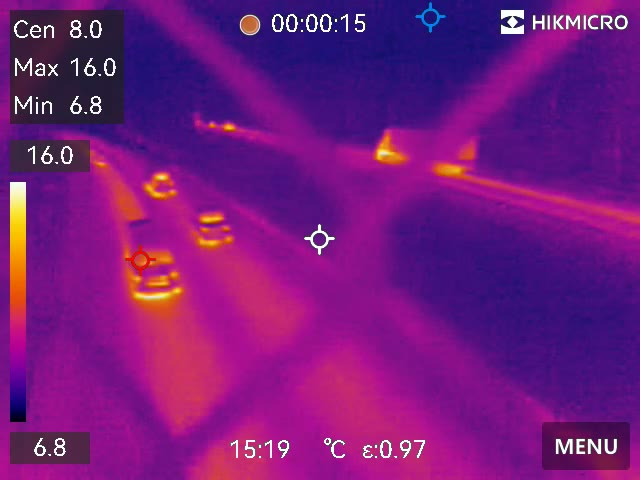heavyTruck: (371, 126, 490, 175)
vehicle: (123, 223, 182, 299), (186, 206, 237, 248)
